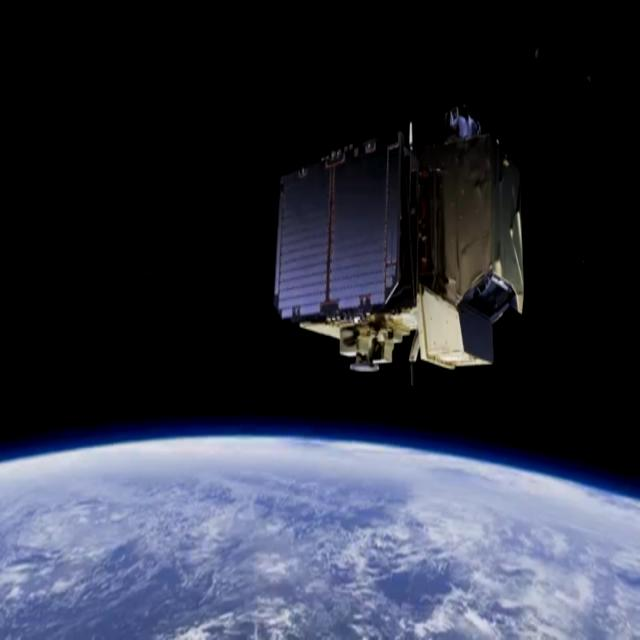medium_debris: (267, 101, 533, 395)
